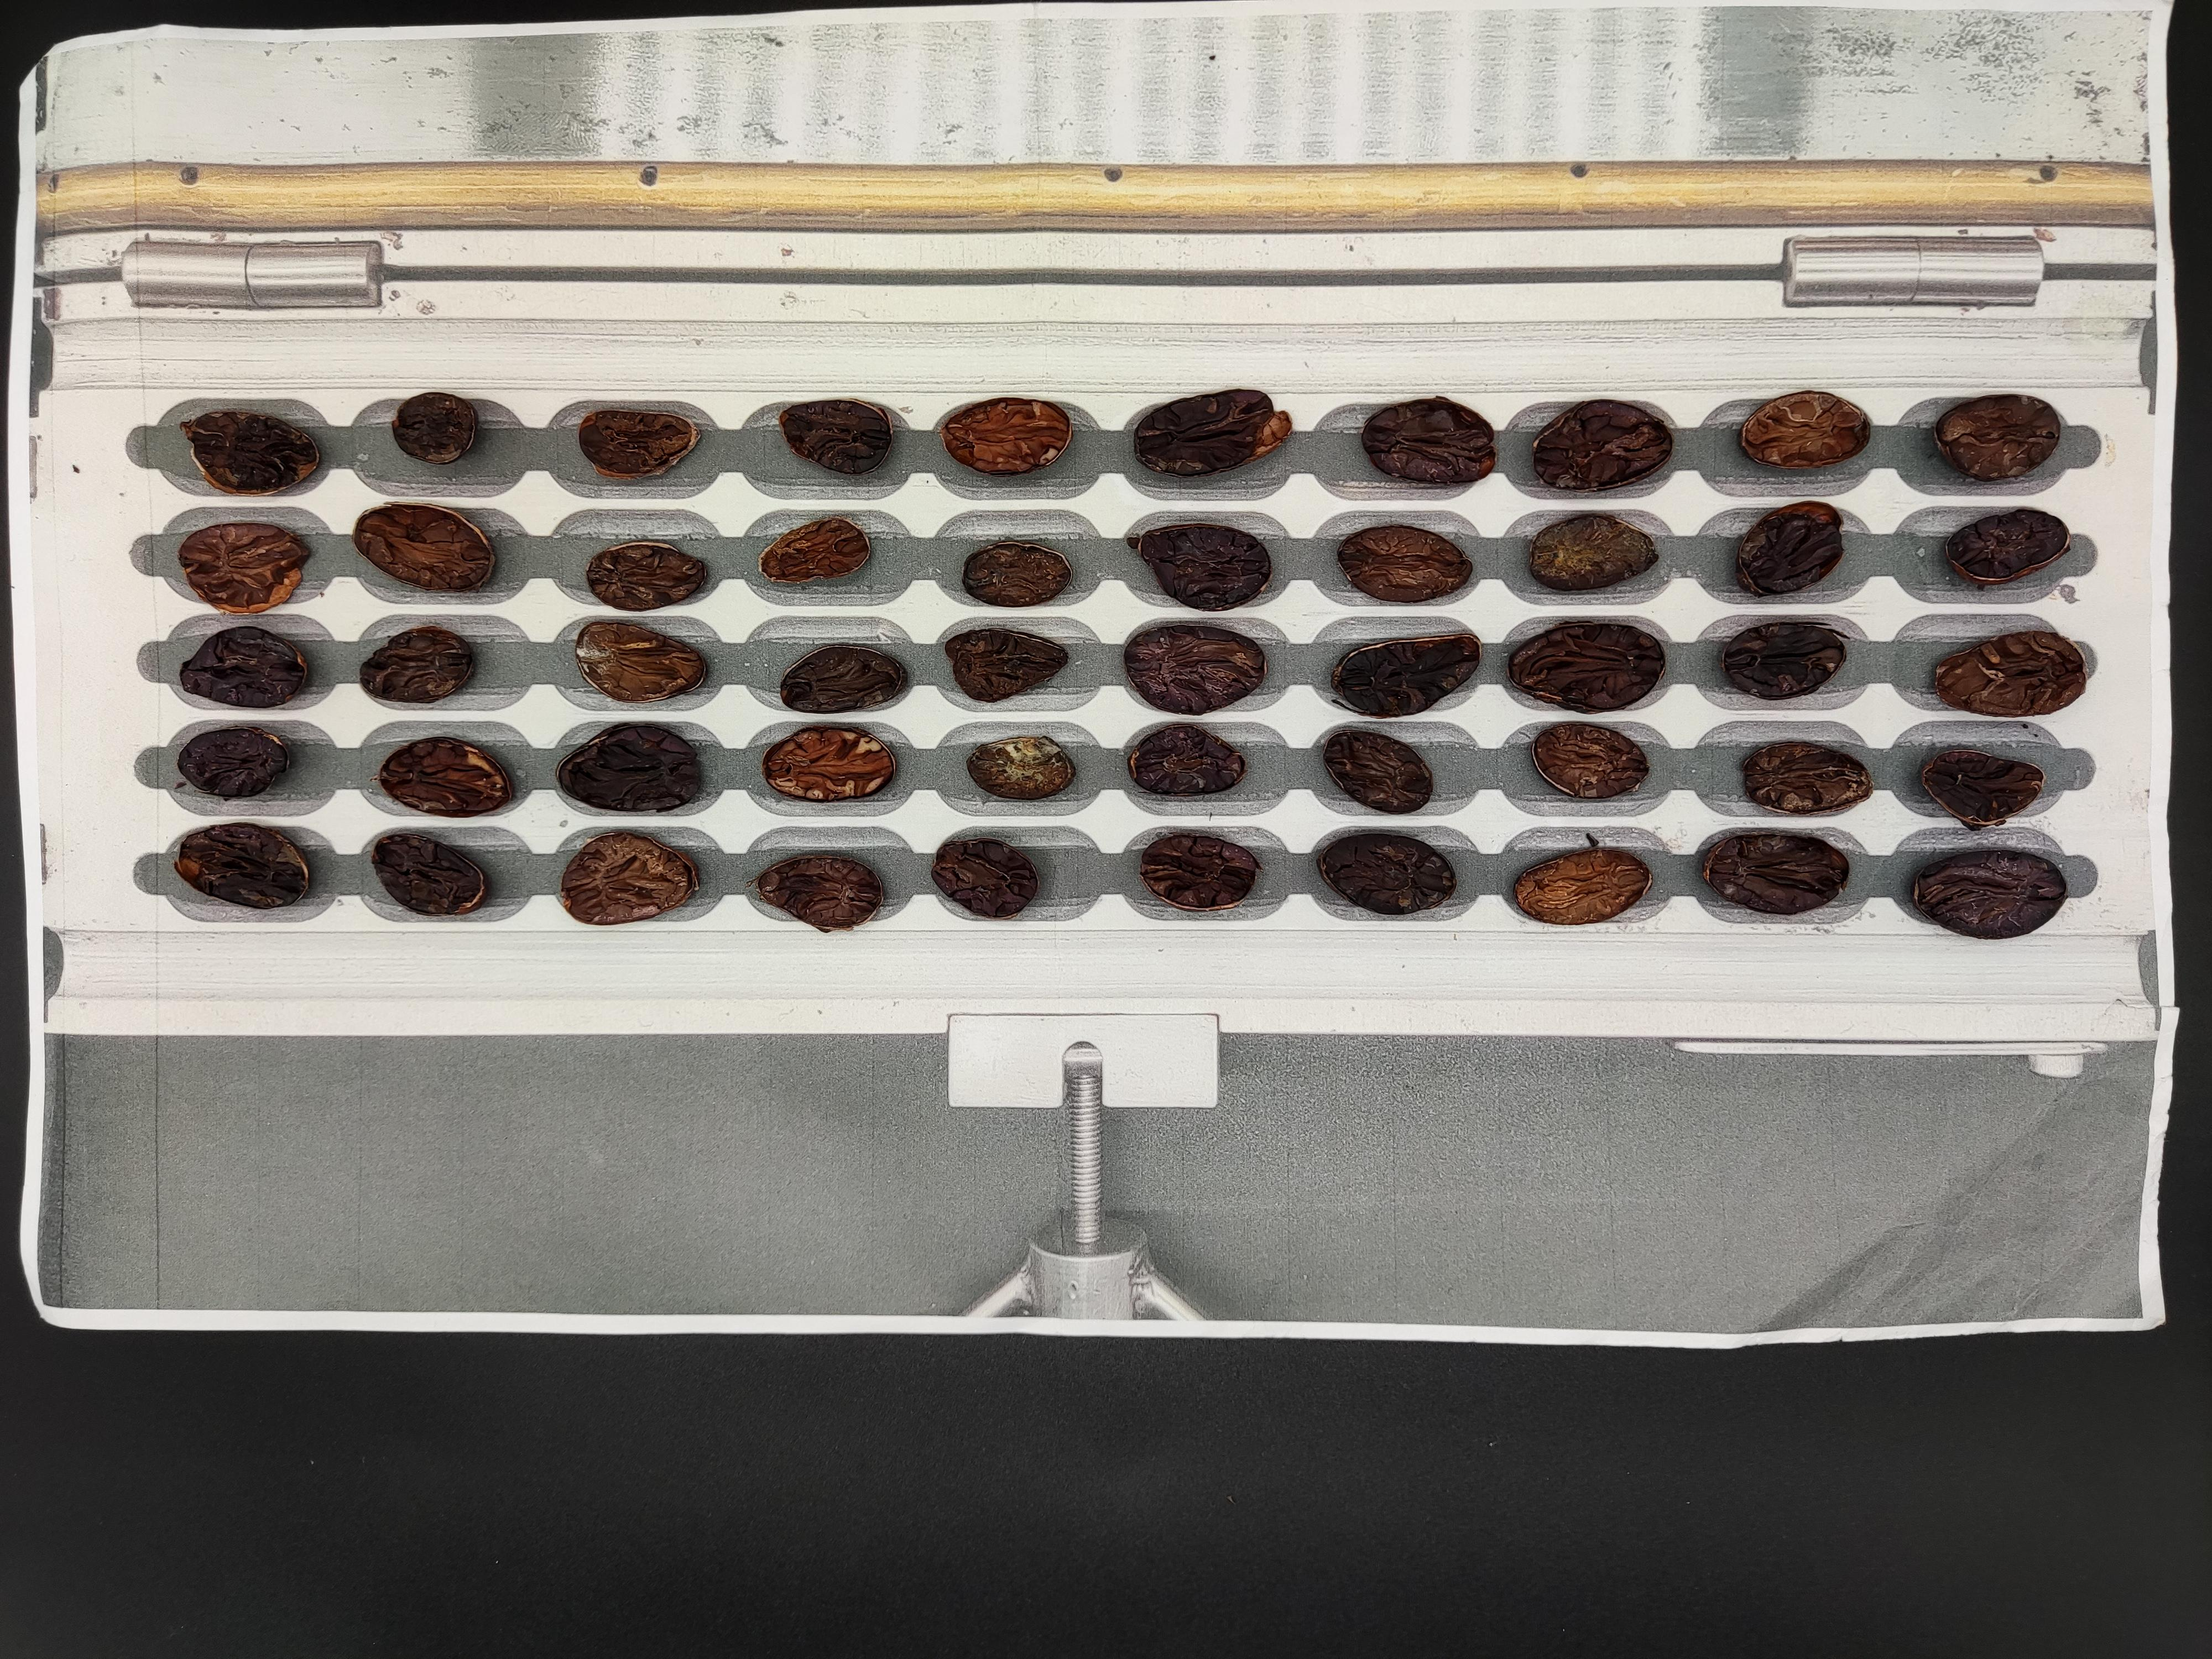Brown - G1: (1848, 1126, 1940, 1183), (1557, 1009, 1635, 1060), (1169, 1075, 1242, 1127), (1968, 1187, 2045, 1234), (1270, 1185, 1345, 1232), (1468, 1180, 1543, 1225), (1378, 1082, 1444, 1126), (1468, 1073, 1527, 1114)
Brown - G2: (2062, 1129, 2153, 1182), (1364, 1234, 1444, 1288), (1968, 1007, 2043, 1054), (1463, 1246, 1536, 1293), (1561, 1129, 1630, 1175), (1862, 1180, 1928, 1223)
Brown - G3: (1256, 1065, 1339, 1119), (1850, 1241, 1930, 1288), (2064, 1011, 2141, 1060), (1763, 1075, 1838, 1124), (1371, 1016, 1442, 1061)
Brown - G4: (1568, 1084, 1632, 1126)
Insect-damaged: (1858, 1068, 1933, 1117)
Mouldy: (1371, 1127, 1446, 1173), (1571, 1183, 1635, 1225)
Partly Purple - G1: (1362, 1180, 1446, 1230), (1663, 1234, 1730, 1283)
Partly Purple - G2: (1651, 1126, 1733, 1180), (1756, 1133, 1841, 1182), (1773, 1009, 1850, 1063), (1949, 1234, 2031, 1283), (1167, 1230, 1244, 1281), (1554, 1236, 1618, 1286), (1474, 1011, 1540, 1060), (1268, 1234, 1334, 1283)
Total Purple - G2: (1169, 1127, 1242, 1176), (1655, 1180, 1723, 1225)
Total Purple - G3: (2055, 1241, 2142, 1297), (1653, 1075, 1735, 1124), (2073, 1068, 2144, 1117), (1169, 1180, 1235, 1225)
Very Dark Brown - G1: (1656, 1006, 1745, 1060), (1169, 1016, 1247, 1068), (1963, 1065, 2031, 1119)
Very Dark Brown - G2: (1860, 1011, 1946, 1066), (1754, 1180, 1822, 1234), (2060, 1190, 2132, 1239), (1959, 1126, 2031, 1173), (1259, 1129, 1327, 1178)
Very Dark Brown - G3: (1752, 1232, 1829, 1284), (1475, 1138, 1548, 1178), (1277, 1006, 1334, 1053)
